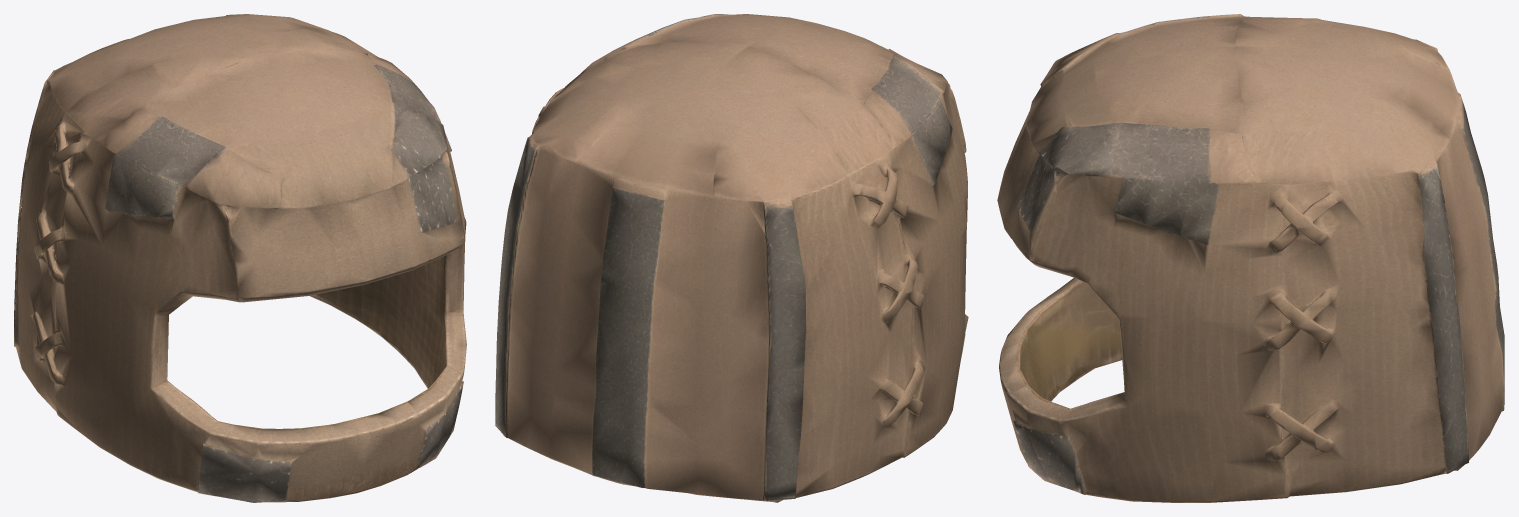
File: Meshy_AI_Cardboard_Knight_Helm_0513152257_texture.fbx
The picture shows the model from 3 angles, left to right: view 1: azimuth 30°, elevation 25°; view 2: azimuth 150°, elevation 25°; view 3: azimuth 270°, elevation 25°; orthographic projection. The views are drawn at different scales.
Visible parts, largest first — view 1: Mesh_0; view 2: Mesh_0; view 3: Mesh_0.
Part boxes in pixels (x1,y1,x2,y2): Mesh_0: [14, 14, 466, 502]; Mesh_0: [495, 14, 968, 502]; Mesh_0: [997, 14, 1504, 502].
Bounding box in the file's own units: 174 × 163 × 191.
1 material, 1 textured.
